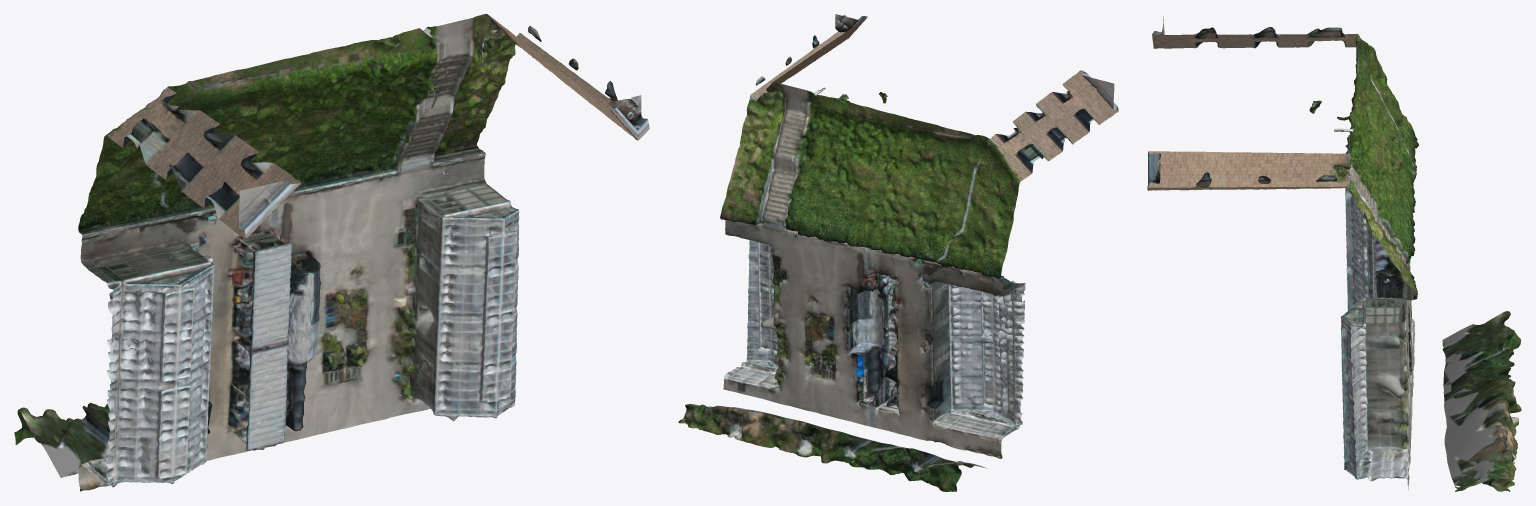
File: Tile_+008_+006.fbx
3 views of the same model, side by side, from view 1: azimuth 30°, elevation 25°; view 2: azimuth 150°, elevation 25°; view 3: azimuth 270°, elevation 25° (orthographic). The views are drawn at different scales.
Visible parts, largest first — view 1: DefaultName; view 2: DefaultName; view 3: DefaultName.
Boxes of the visible parts, <box> form: DefaultName: <box>14,14,649,491</box>; DefaultName: <box>678,14,1118,491</box>; DefaultName: <box>1147,16,1521,491</box>.
Bounding box in the file's own units: 22.54 × 22.54 × 23.46.
